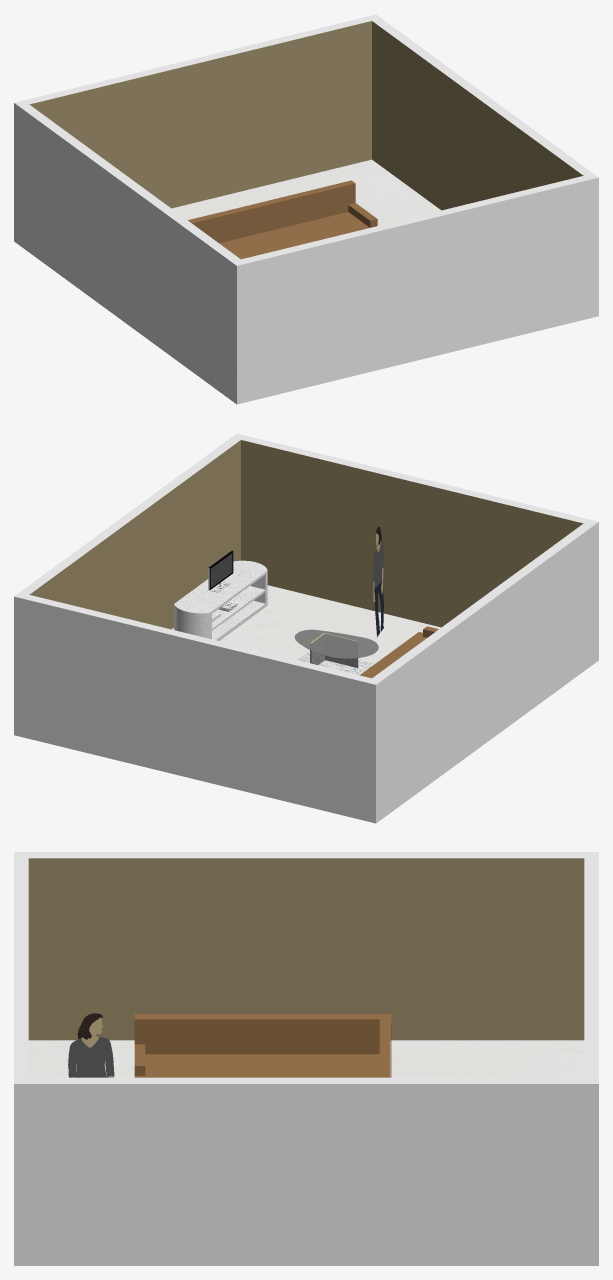
The model's file is room.dae.
3 renders of one model, top to bottom at view 1: azimuth 30°, elevation 25°; view 2: azimuth 150°, elevation 25°; view 3: azimuth 270°, elevation 25°, orthographic. The views are drawn at different scales.
Parts seen in each view (by area): view 1: SketchUp (×4); view 2: SketchUp (×6), Nagouchi_table; view 3: SketchUp (×4), Susan.
Boxes of the visible parts, x1,y1,x2,y2 form: SketchUp (×4): [14, 14, 598, 404]; SketchUp (×6): [14, 433, 598, 823]; Nagouchi_table: [295, 629, 378, 658]; SketchUp (×4): [14, 852, 598, 1265]; Susan: [68, 1037, 114, 1077].
Bounding box in the file's own units: 212 × 226 × 83.29.
